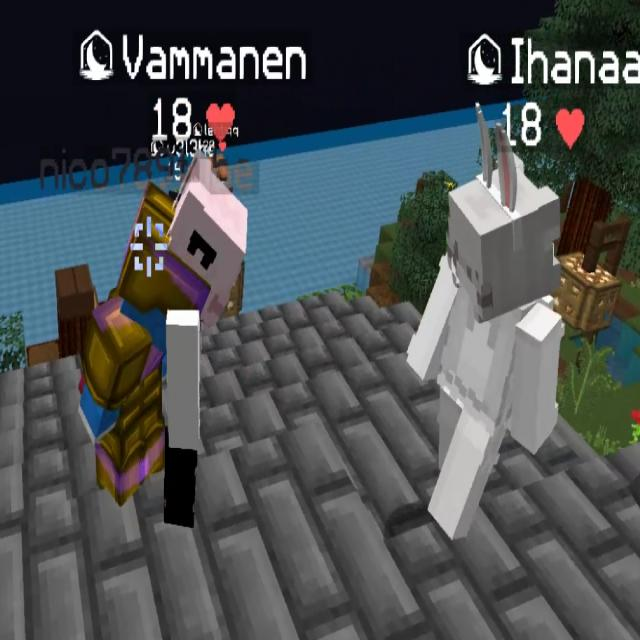Player: (405, 148, 559, 538), (167, 152, 242, 526)
